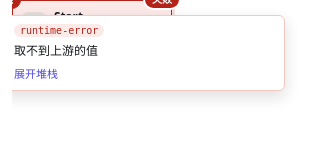
it: 画布侧错误详情（R6-6） › 失败节点展示错误码与消息，堆栈可展开
Earlier steps of the test are not shown.
Expected: the text "runtime-error" is shown, [14,24,104,37]
Expected: the text "取不到上游的值" is shown, [14,42,98,59]
Click the button "展开堆栈".
click(36, 73)  # box [14,65,58,81]
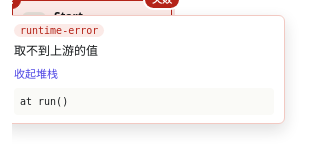
Expected: the text "at run()" is shown, [14,88,274,115]
